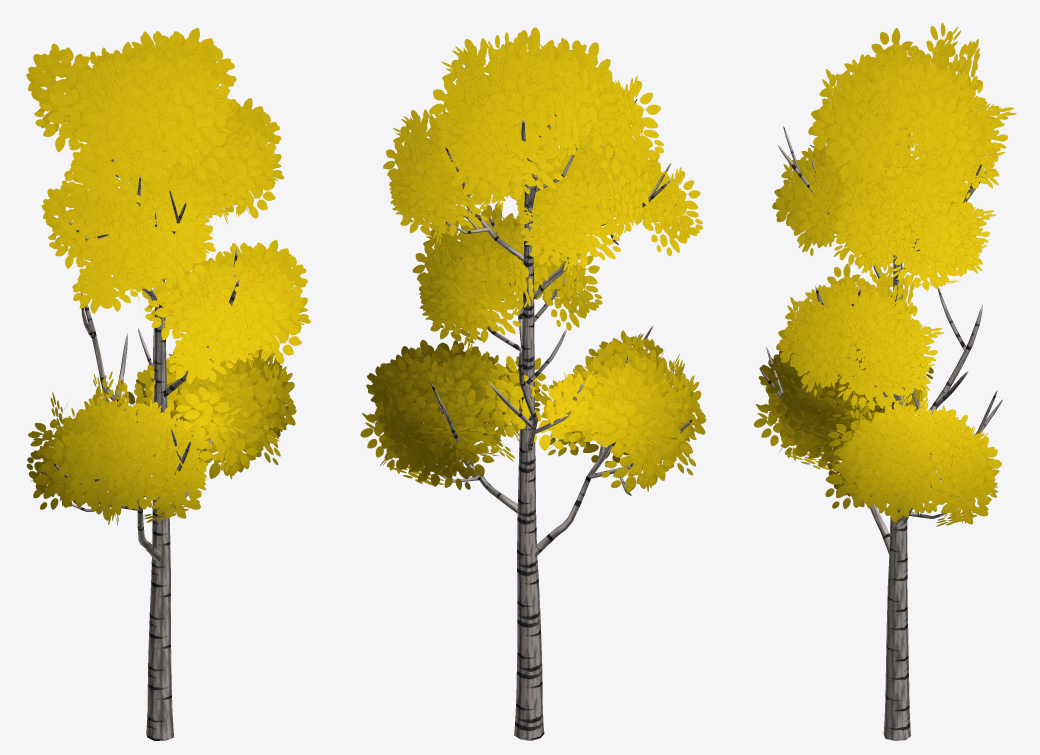
Rendered from BirchTree_2.gltf.
3 renders of one model, left to right at view 1: azimuth 30°, elevation 25°; view 2: azimuth 150°, elevation 25°; view 3: azimuth 270°, elevation 25°, orthographic. The views are drawn at different scales.
Visible parts, largest first — view 1: BirchTree_2; view 2: BirchTree_2; view 3: BirchTree_2.
Part boxes in pixels (left/top/right/bottom): BirchTree_2: left=26, top=28, right=310, bottom=740; BirchTree_2: left=360, top=27, right=706, bottom=740; BirchTree_2: left=754, top=22, right=1016, bottom=740.
Size of the model in its own units: 3.35 by 7.57 by 2.81.
Materials: 2 (2 with a texture image).
